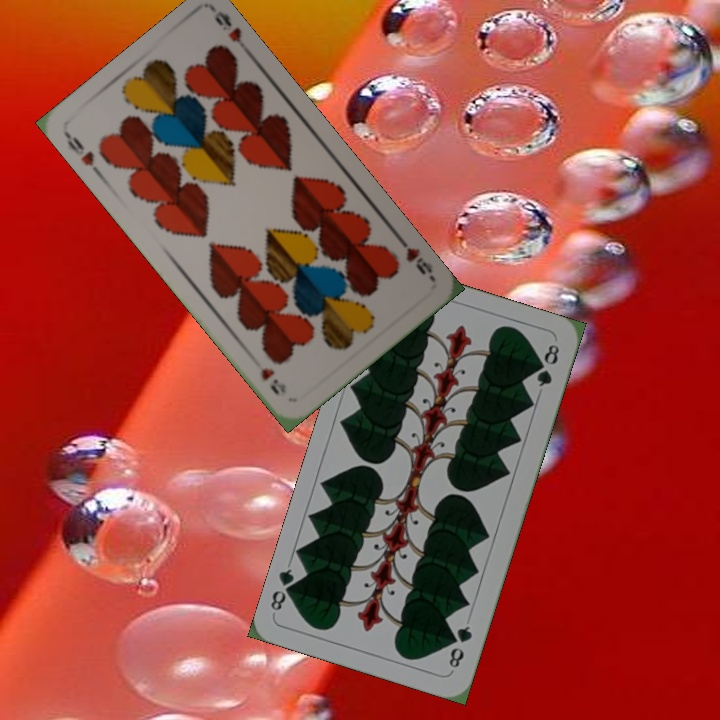G8: (445, 621, 475, 674)
H9: (393, 232, 437, 282), (61, 129, 104, 179)
